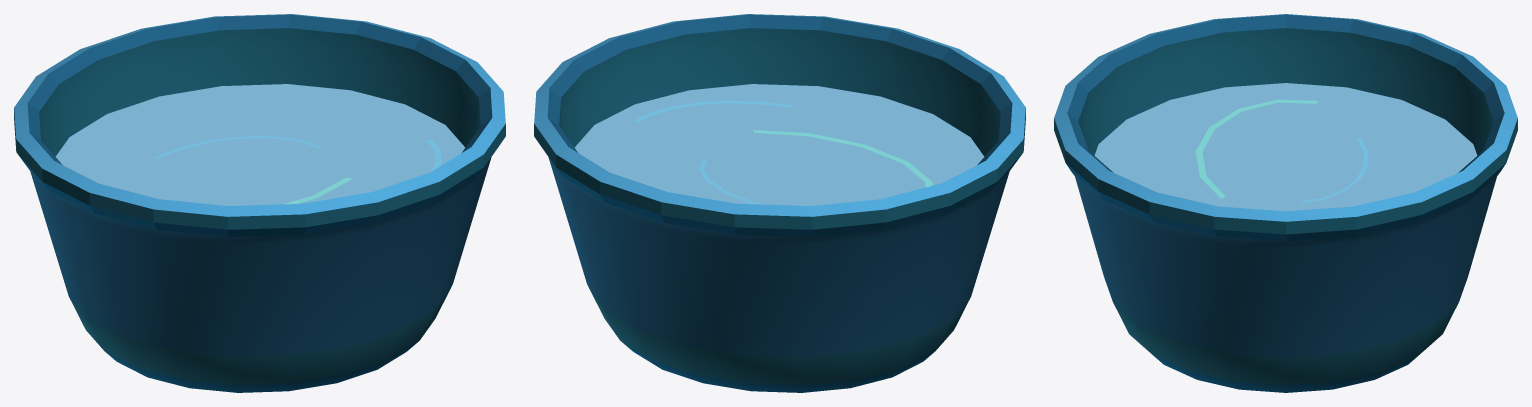
File: object-planggana.glb
3 views of the same model, side by side, from view 1: azimuth 30°, elevation 25°; view 2: azimuth 150°, elevation 25°; view 3: azimuth 270°, elevation 25° (orthographic). The views are drawn at different scales.
Parts seen in each view (by area): view 1: Bathroom - Planggana; view 2: Bathroom - Planggana; view 3: Bathroom - Planggana.
Part boxes in pixels (x1,y1,x2,y2): Bathroom - Planggana: [14, 14, 505, 392]; Bathroom - Planggana: [534, 14, 1025, 392]; Bathroom - Planggana: [1054, 14, 1517, 392].
Size of the model in its own units: 0.632 by 0.3 by 0.596.
Materials: 1 (1 with a texture image).
